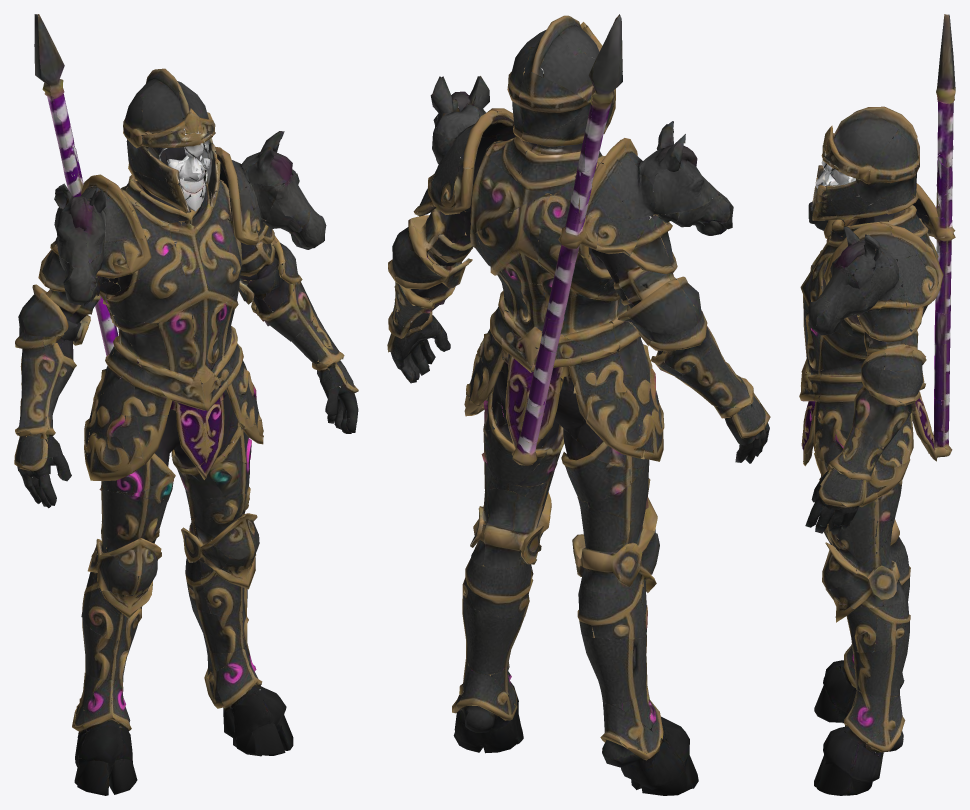
File: 19_carousel_knight.glb
The picture shows the model from 3 angles, left to right: view 1: azimuth 30°, elevation 25°; view 2: azimuth 150°, elevation 25°; view 3: azimuth 270°, elevation 25°; orthographic projection. The views are drawn at different scales.
Parts seen in each view (by area): view 1: mesh_node; view 2: mesh_node; view 3: mesh_node.
Boxes of the visible parts, bbox=[...] form: mesh_node: bbox=[14, 14, 358, 795]; mesh_node: bbox=[387, 14, 770, 795]; mesh_node: bbox=[799, 14, 955, 795].
Bounding box in the file's own units: 0.9093 × 1.9 × 0.3905.
1 material, 1 textured.
